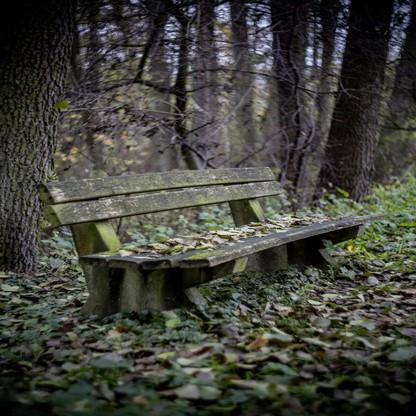obstacle: (27, 155, 387, 324)
